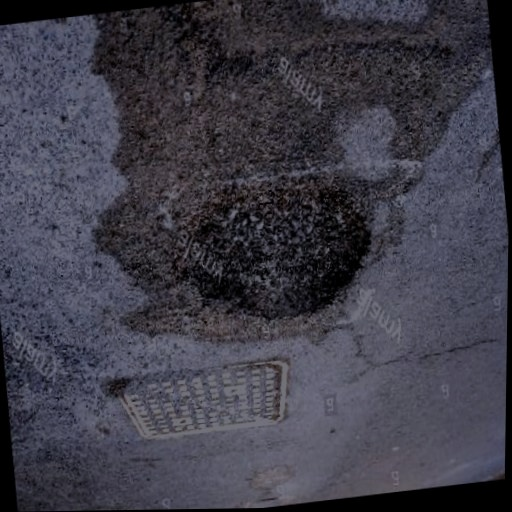pothole: (160, 173, 381, 337)
